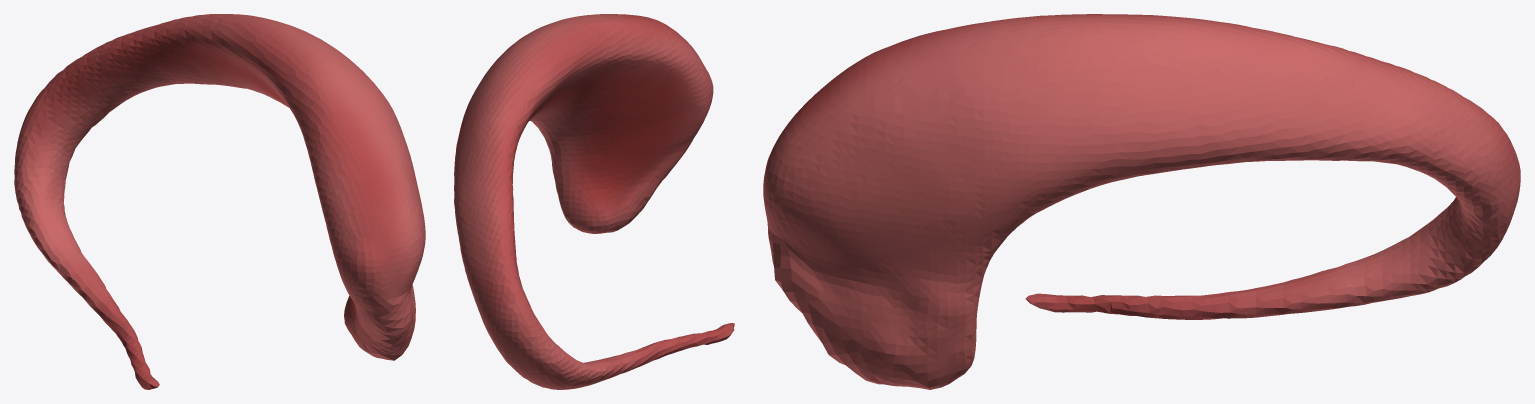
Rendered from Caudate_nucleus1.obj.
3 renders of one model, left to right at view 1: azimuth 30°, elevation 25°; view 2: azimuth 150°, elevation 25°; view 3: azimuth 270°, elevation 25°, orthographic. The views are drawn at different scales.
Parts seen in each view (by area): view 1: obj0; view 2: obj0; view 3: obj0.
Part boxes in pixels (left/top/right/bottom): obj0: left=14, top=14, right=425, bottom=389; obj0: left=454, top=14, right=734, bottom=389; obj0: left=763, top=14, right=1520, bottom=389.
Size of the model in its own units: 21.77 by 25.4 by 43.59.
Materials: 1 (1 with a texture image).
